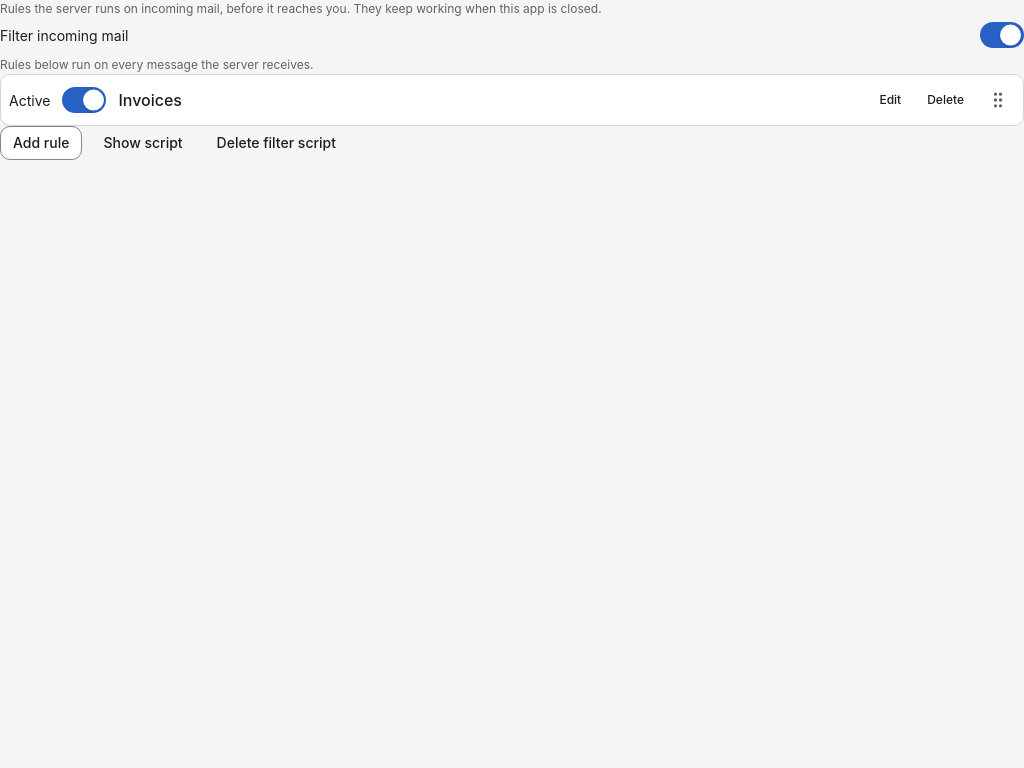
Test: validation before a save (FR-SIEVE-01) › does not store a script the server refuses to compile, and quotes the refusal
Expected: the text "Invoices" is shown, [118,90,182,110]
Click the button "Add rule": {"x": 41, "y": 143} [0,126,82,160]
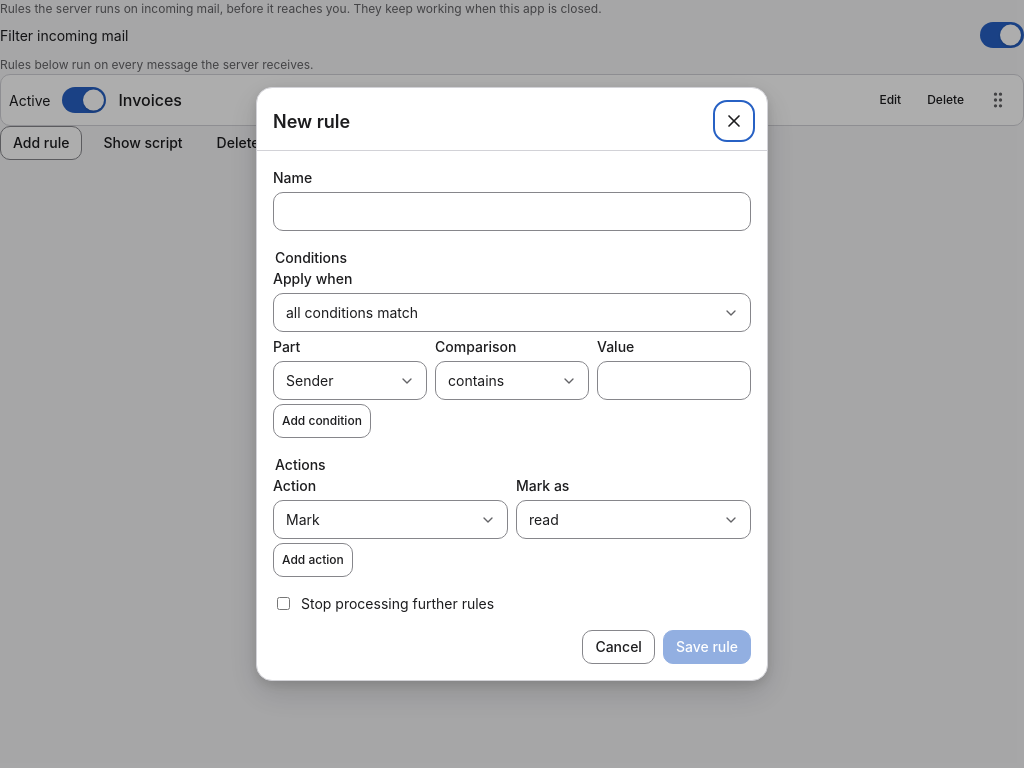
In the field labelled "Name": {"x": 512, "y": 212} [273,192,751,231], type "Newsletters"
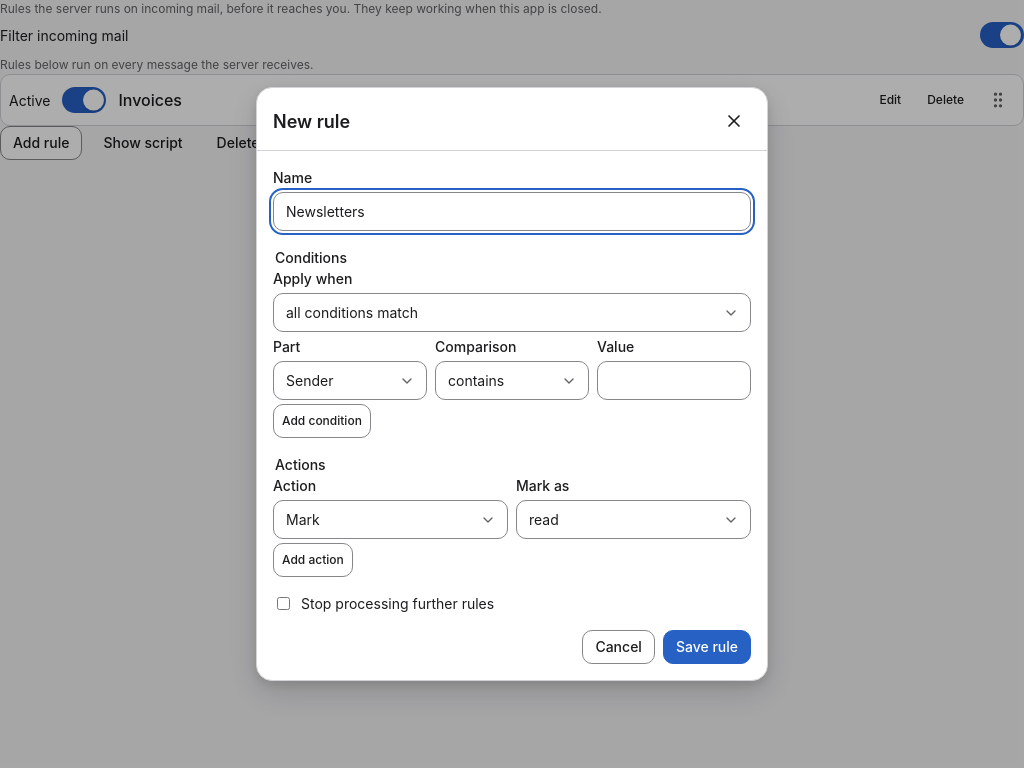
Select "Subject" in the dropdown labelled "Part": {"x": 350, "y": 380} [273,361,427,400]
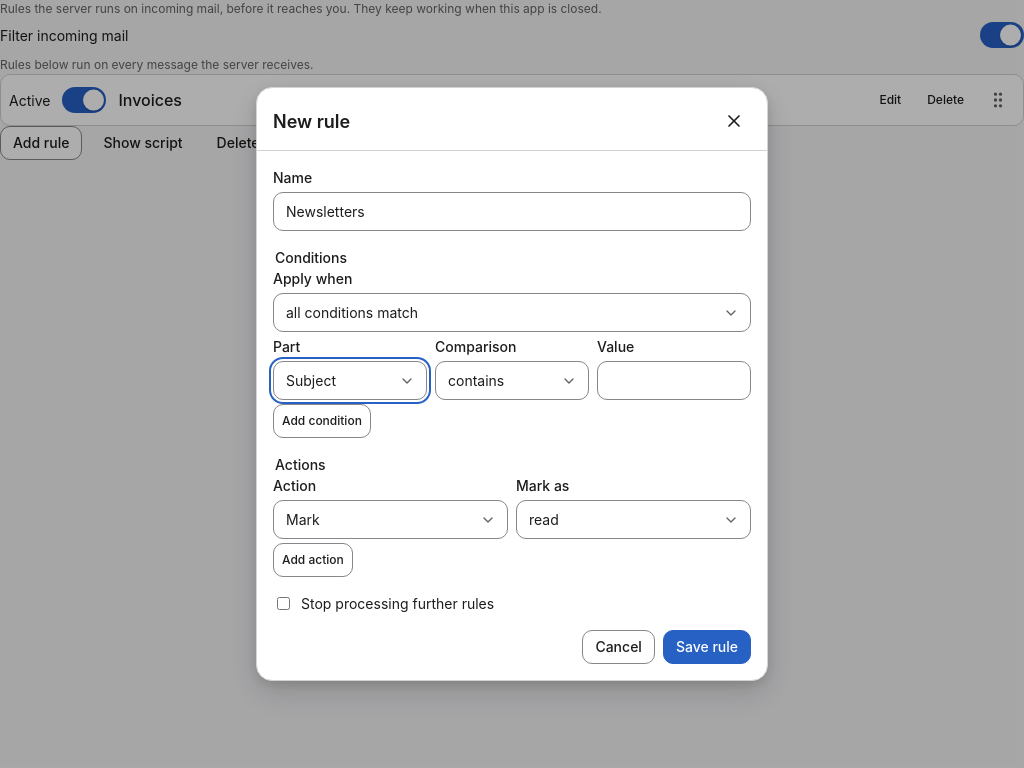
In the field labelled "Value": {"x": 674, "y": 380} [597,361,751,400], type "Newsletter"
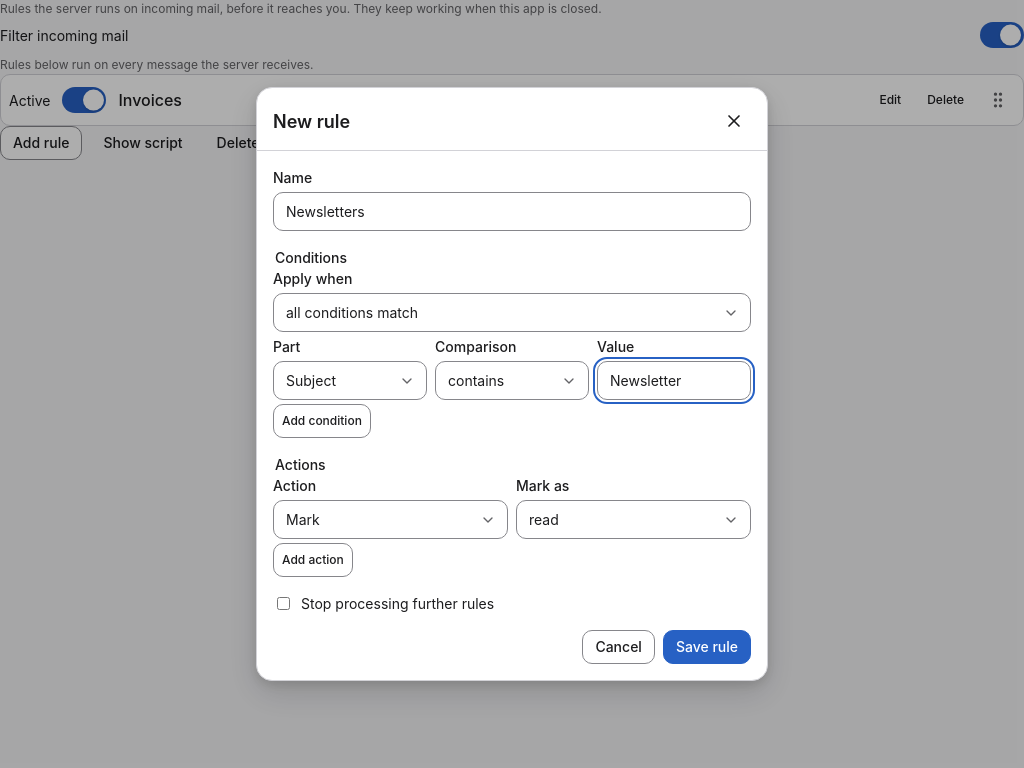
Click the button "Save rule": {"x": 707, "y": 647} [663,630,751,664]
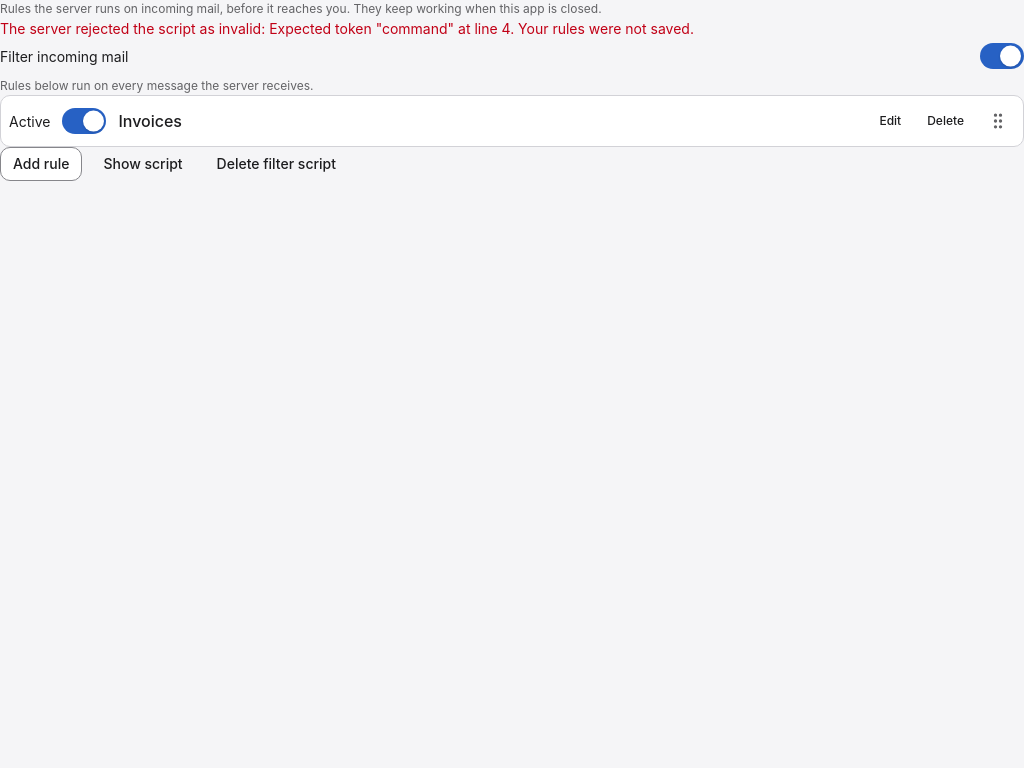
Expected: the text "Expected token \"command\" at line 4" is shown, [0,20,694,37]
